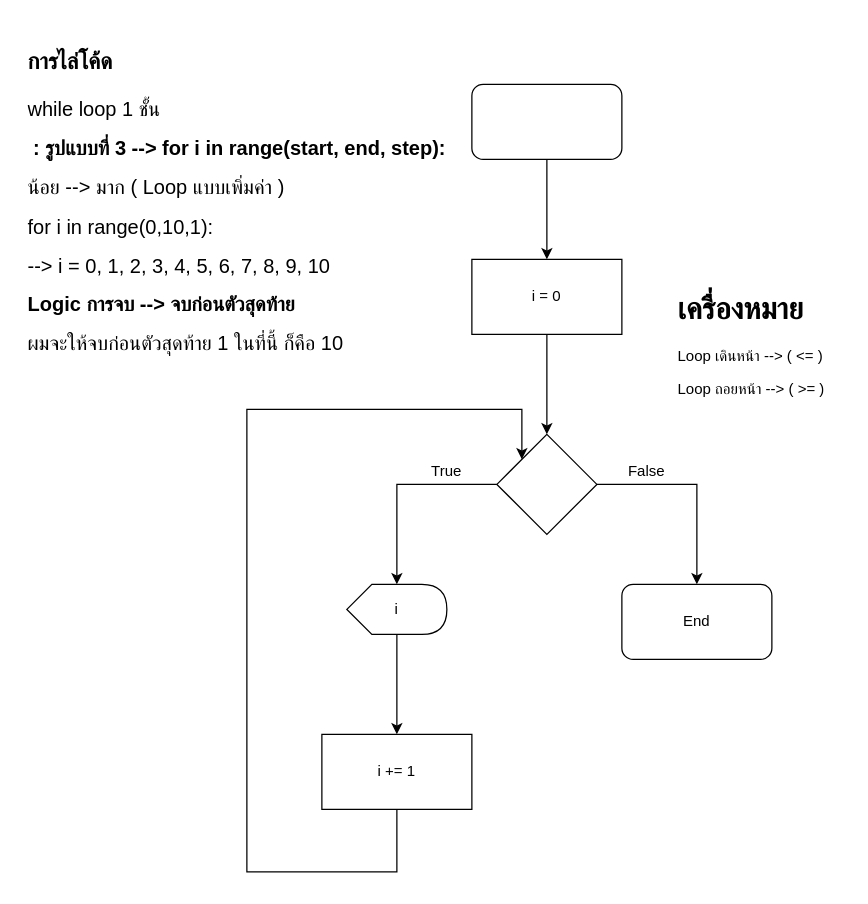
The diagram is 868 pixels wide and 904 high, and some of its shapes have lost their labels. The box of each missing label's shape, as (x1, y1, x2, y2) in pixels:
i <= 10: (496, 433, 597, 534)
start: (471, 83, 622, 159)
